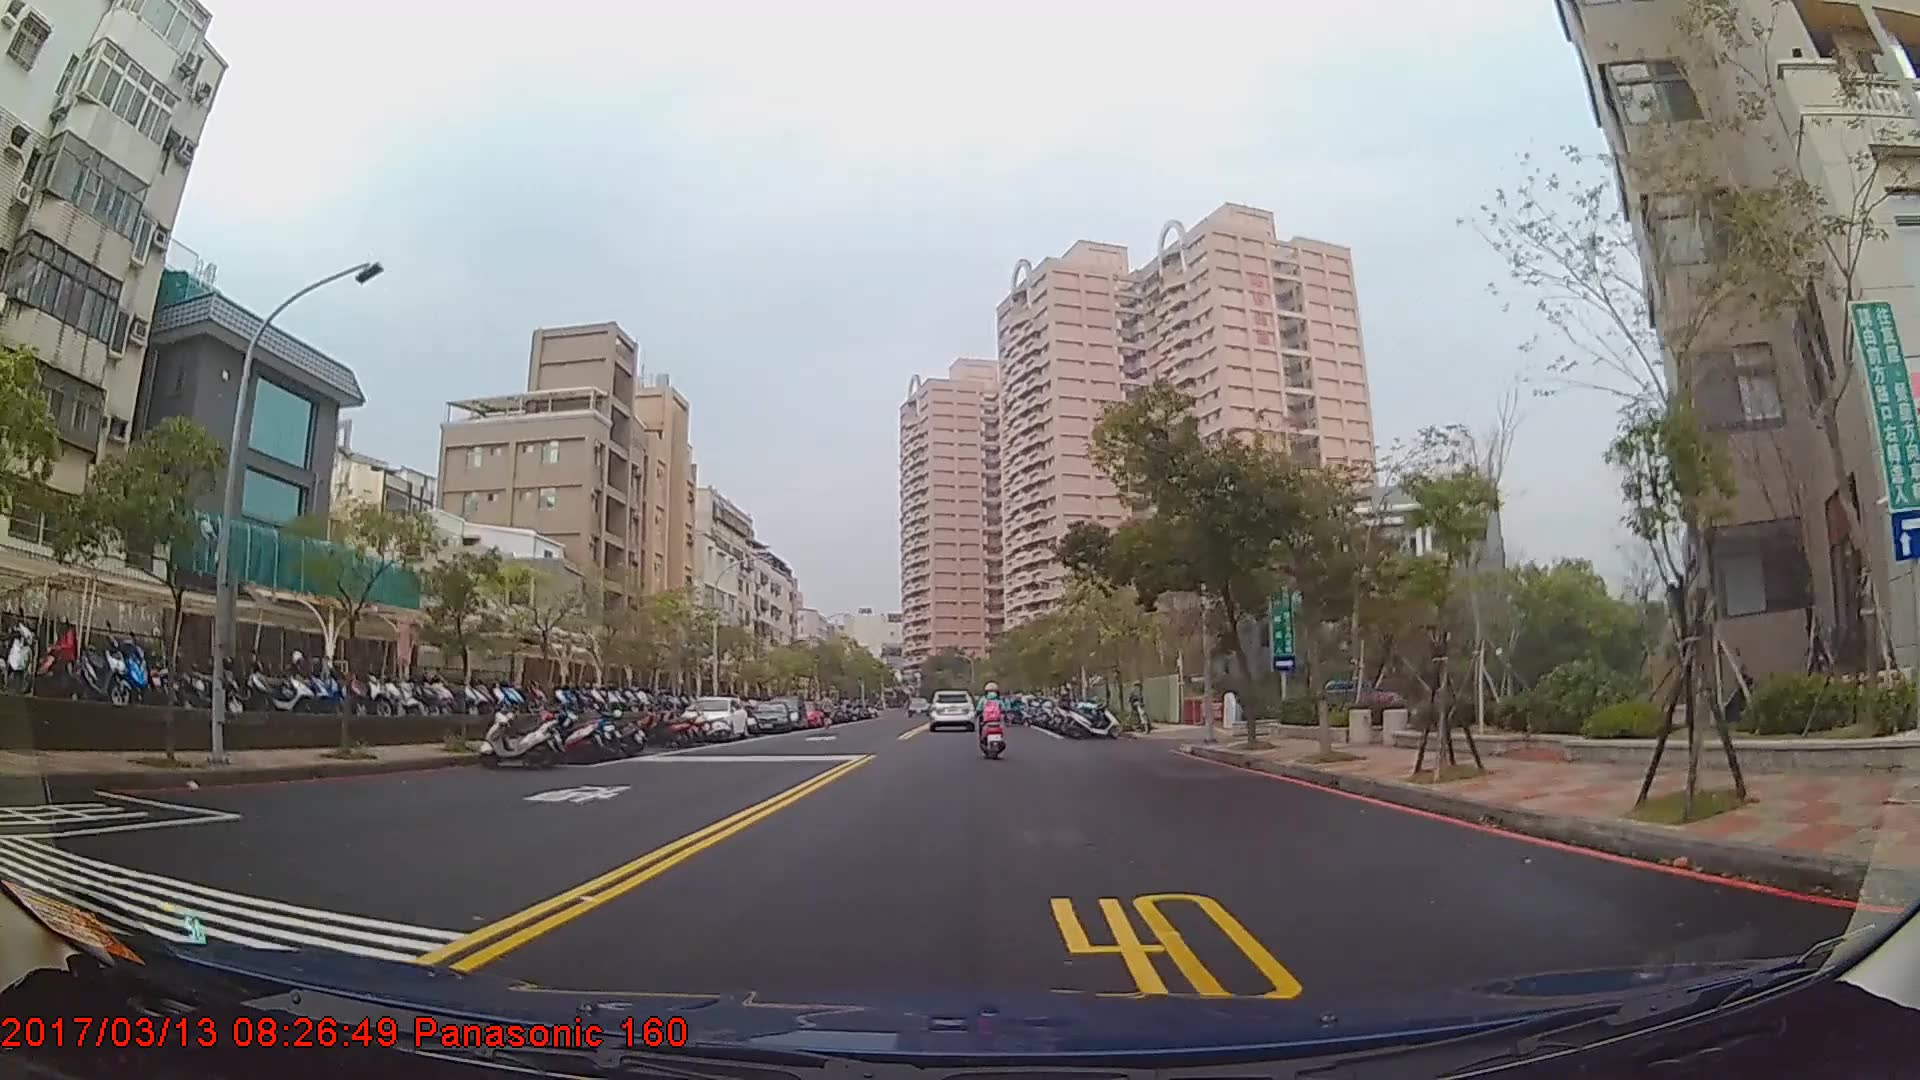pedestrian: (1128, 681, 1148, 726)
rider: (976, 680, 1007, 757)
vehicle: (681, 695, 748, 742), (925, 687, 975, 731), (745, 698, 793, 736)
